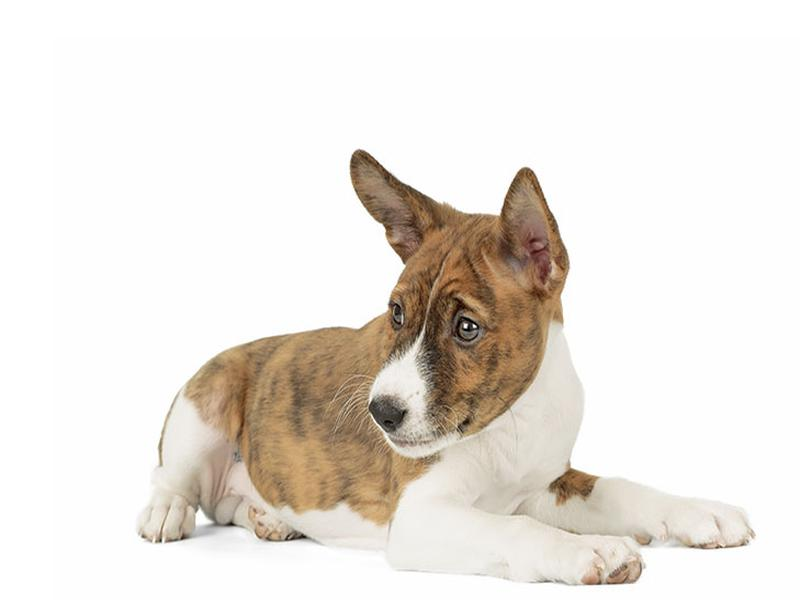dog_down: (125, 144, 760, 588)
